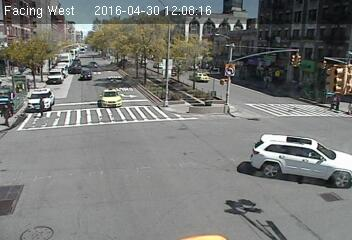neg: (99, 49, 127, 85), (211, 41, 238, 78), (124, 53, 150, 87), (190, 45, 214, 78), (117, 106, 139, 134), (160, 50, 179, 76), (179, 41, 197, 65), (252, 49, 270, 73), (269, 56, 287, 80), (194, 149, 208, 168), (186, 103, 199, 122), (76, 68, 85, 81)
pos: (32, 94, 50, 118), (335, 95, 349, 113), (325, 90, 337, 107)
